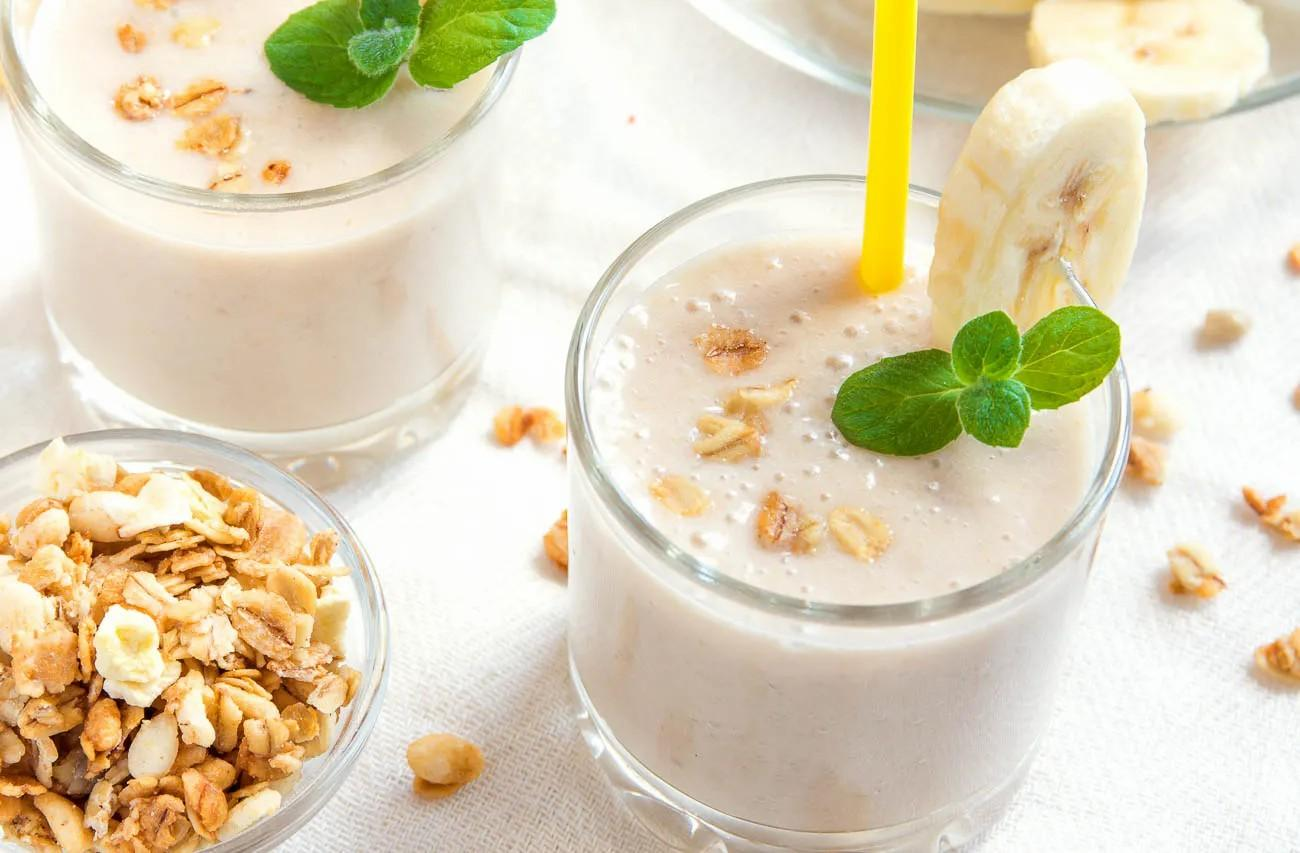Lassi: (571, 219, 1110, 833), (19, 3, 519, 431)
